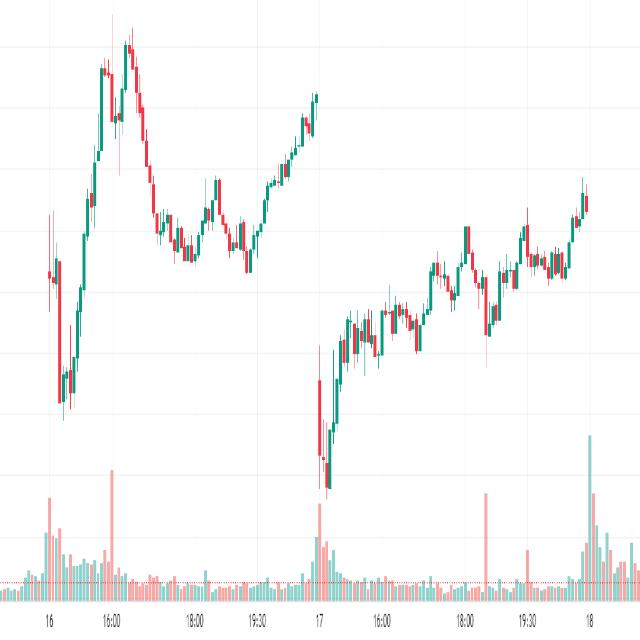Double-Top: (91, 29, 151, 165)
